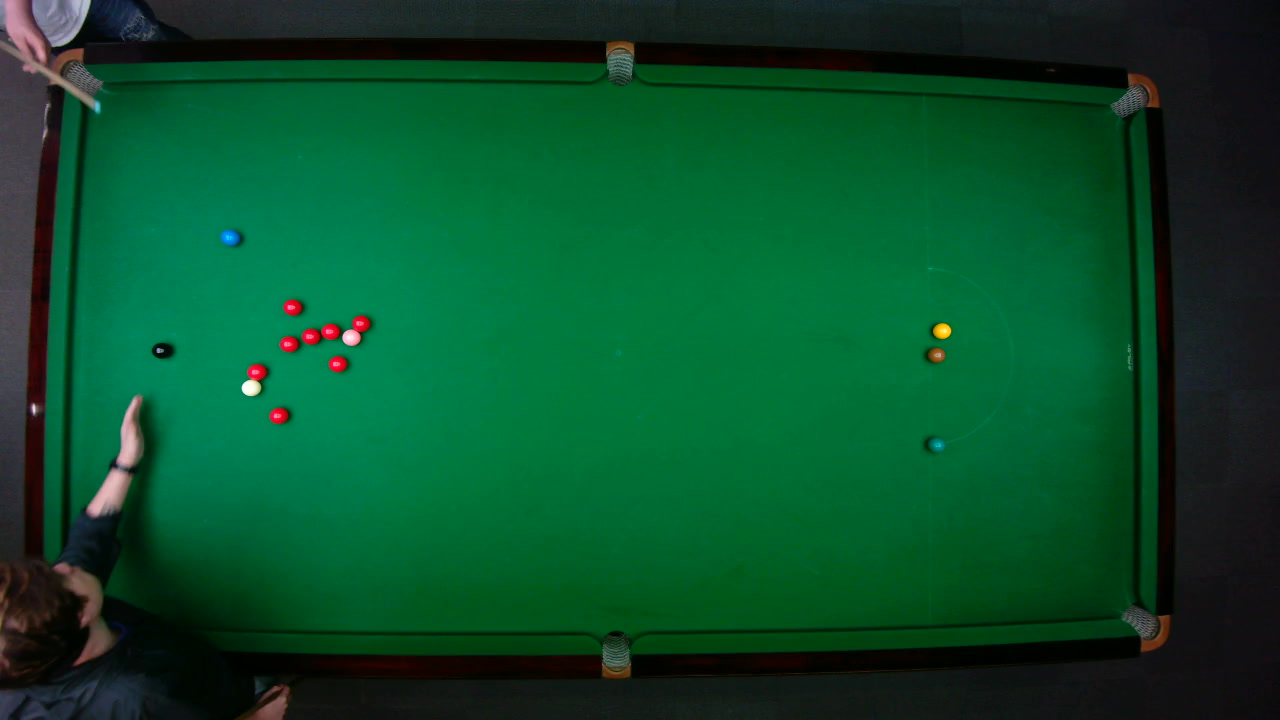bag: (47, 47, 103, 100), (1118, 602, 1170, 651), (1108, 72, 1160, 119), (601, 629, 630, 679), (605, 39, 633, 86)
black: (150, 341, 172, 358)
blue: (219, 228, 240, 246)
brown: (926, 346, 945, 363)
cue: (0, 39, 104, 117)
green: (925, 435, 945, 452)
pink: (340, 328, 362, 346)
red: (245, 362, 268, 380), (327, 354, 348, 373), (267, 406, 289, 424), (277, 334, 299, 352), (299, 327, 321, 345), (350, 314, 371, 332), (281, 298, 303, 315), (320, 322, 340, 339)
white: (240, 377, 262, 396)
yellow: (931, 321, 952, 339)
zone: (926, 265, 1013, 445)
